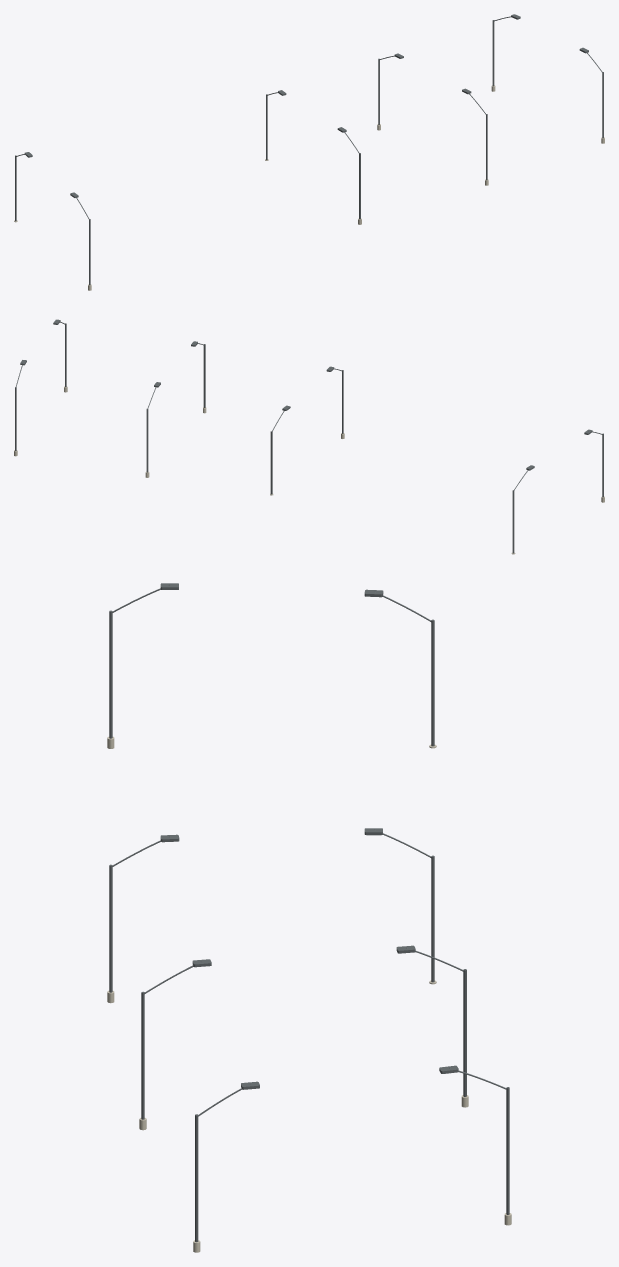
3 renders of one model, top to bottom at view 1: azimuth 30°, elevation 25°; view 2: azimuth 150°, elevation 25°; view 3: azimuth 270°, elevation 25°, orthographic. The views are drawn at different scales.
Visible parts, largest first — view 1: buildings_s_-1_-3_Dark_Metal; view 2: buildings_s_-1_-3_Dark_Metal; view 3: buildings_s_-1_-3_Dark_Metal.
Part boxes in pixels (left/top/right/bottom): buildings_s_-1_-3_Dark_Metal: left=15, top=14, right=603, bottom=285; buildings_s_-1_-3_Dark_Metal: left=15, top=319, right=603, bottom=553; buildings_s_-1_-3_Dark_Metal: left=109, top=583, right=509, bottom=1242.
Bounding box in the file's own units: 112 × 16.75 × 37.67.
